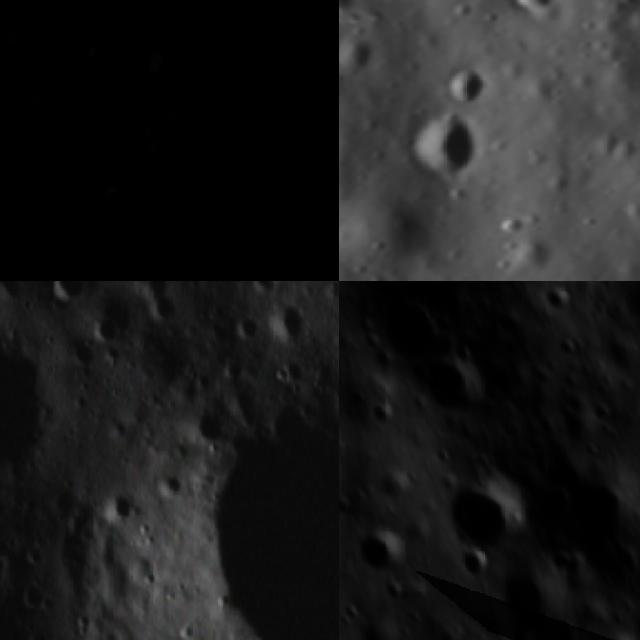crater: (178, 383, 339, 640), (397, 103, 504, 201), (552, 462, 640, 575), (408, 344, 499, 431), (443, 471, 527, 560), (364, 291, 450, 372), (492, 559, 566, 640), (0, 339, 44, 471), (340, 517, 416, 581), (136, 42, 200, 107), (431, 64, 496, 124), (339, 23, 386, 83), (0, 21, 54, 72), (263, 297, 306, 348), (498, 0, 571, 30), (78, 34, 125, 80), (531, 281, 585, 320), (189, 402, 226, 444), (60, 332, 96, 372), (97, 490, 135, 526), (44, 281, 91, 308), (228, 312, 259, 350), (86, 313, 118, 347), (143, 296, 178, 327), (129, 281, 171, 300)
